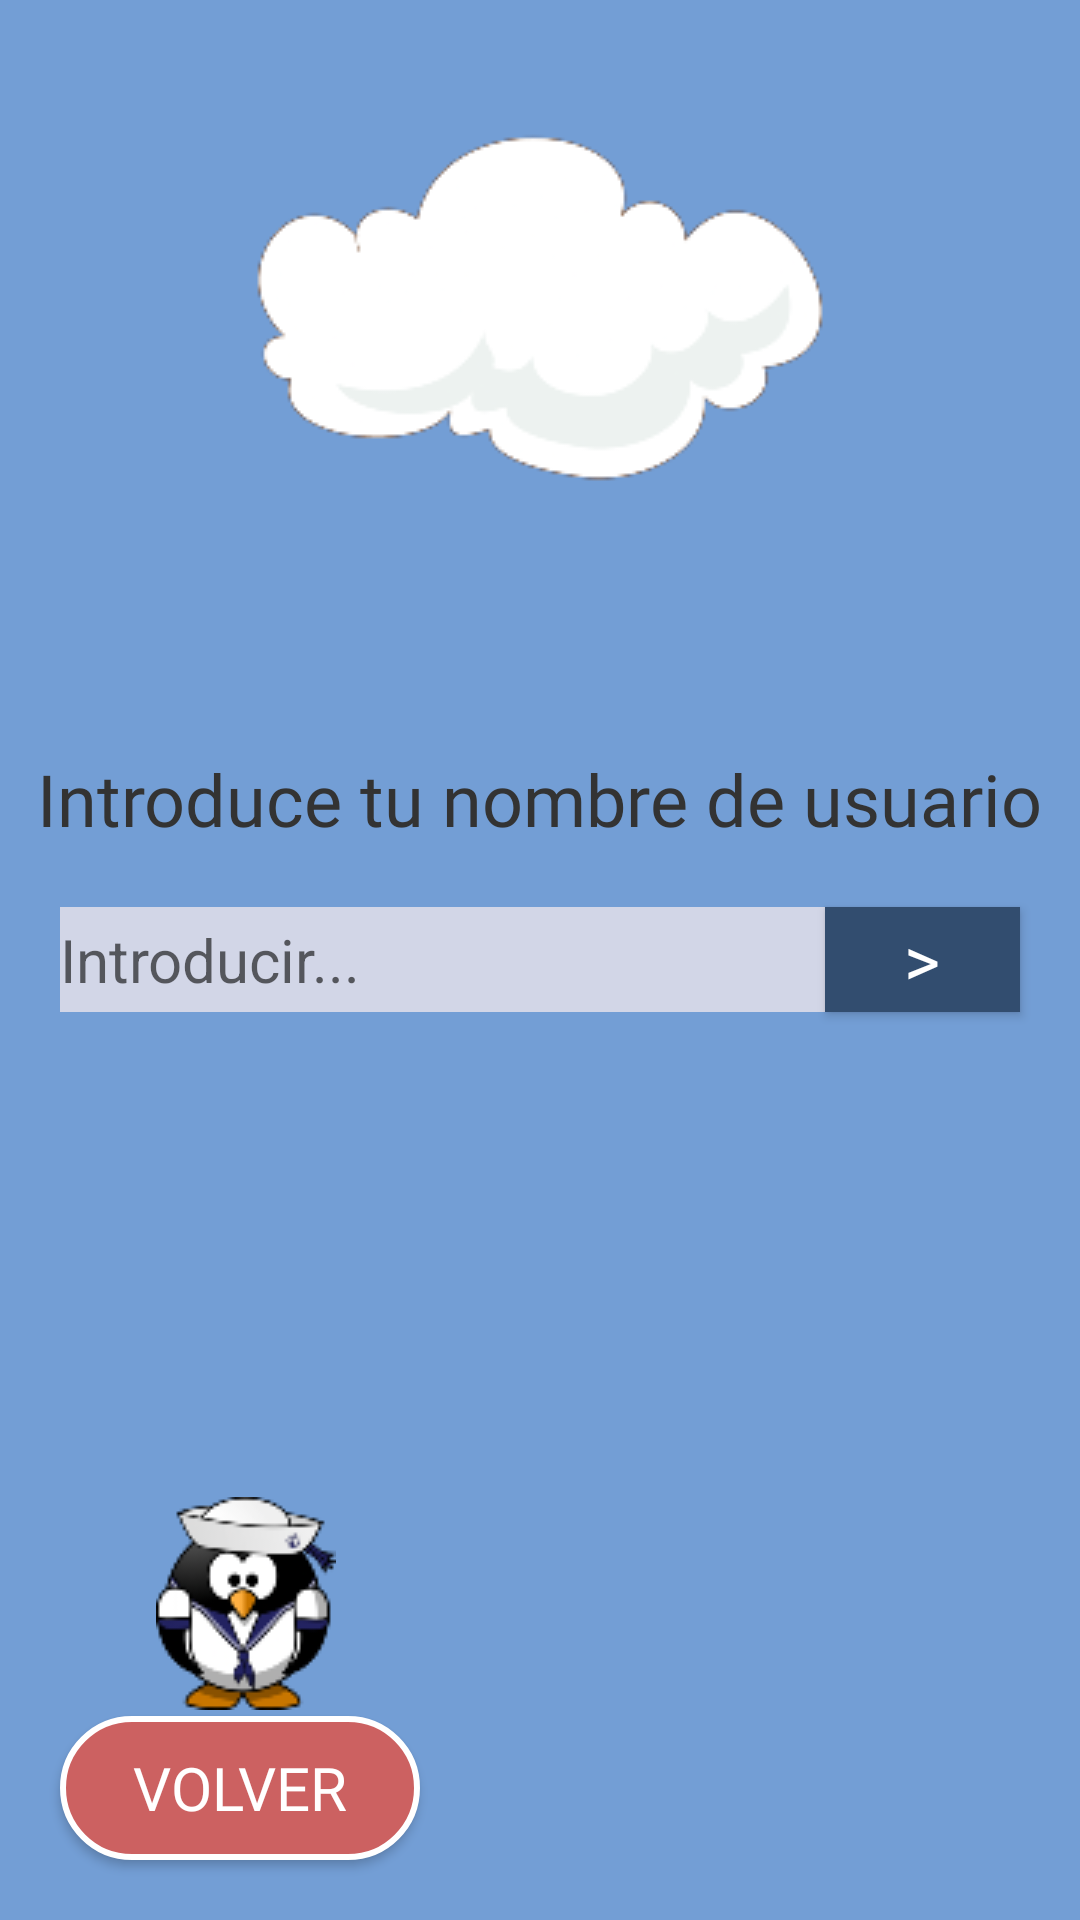

Where icons sit on this 1080×1920 app screen, as {"left": x1, "top": y1, "right": x2, "bottom": y2}:
pinguino: {"left": 156, "top": 1497, "right": 336, "bottom": 1710}
